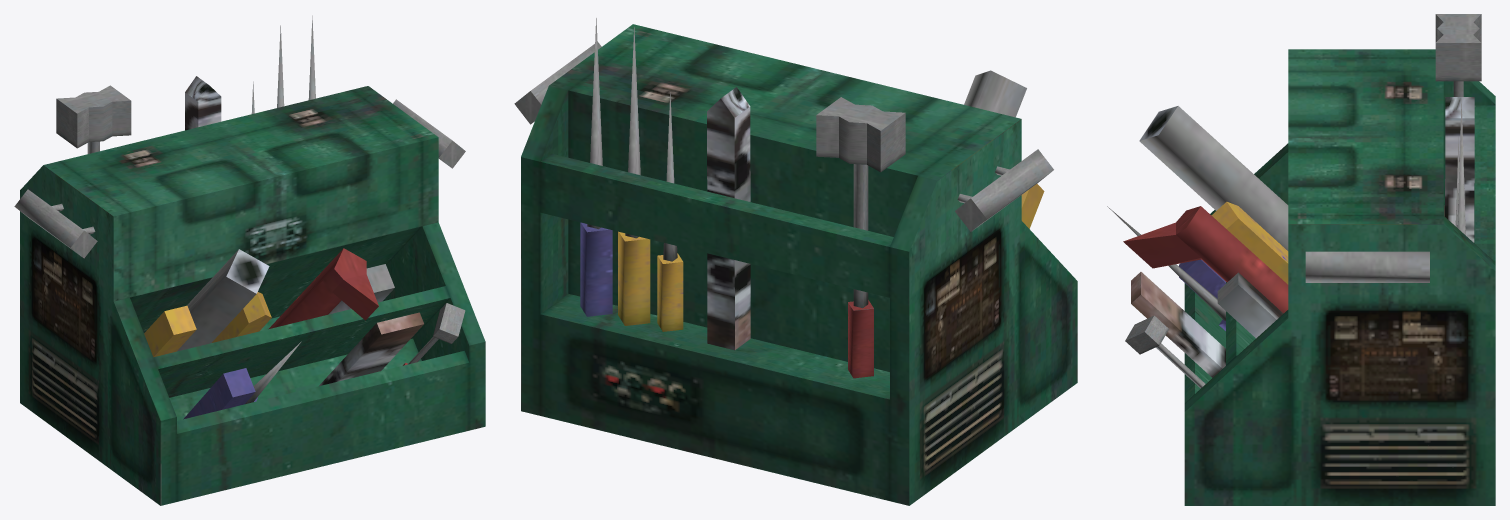
Rendered from eqp_tool_starship_toolkit_l1.fbx.
3 renders of one model, left to right at view 1: azimuth 30°, elevation 25°; view 2: azimuth 150°, elevation 25°; view 3: azimuth 270°, elevation 25°, orthographic. The views are drawn at different scales.
Parts seen in each view (by area): view 1: mesh_node; view 2: mesh_node; view 3: mesh_node.
Boxes of the visible parts, bbox=[...] form: mesh_node: bbox=[14, 15, 485, 505]; mesh_node: bbox=[514, 18, 1077, 505]; mesh_node: bbox=[1107, 14, 1495, 505].
Size of the model in its own units: 0.7299 by 0.5868 by 0.5632.
1 material, 1 textured.
